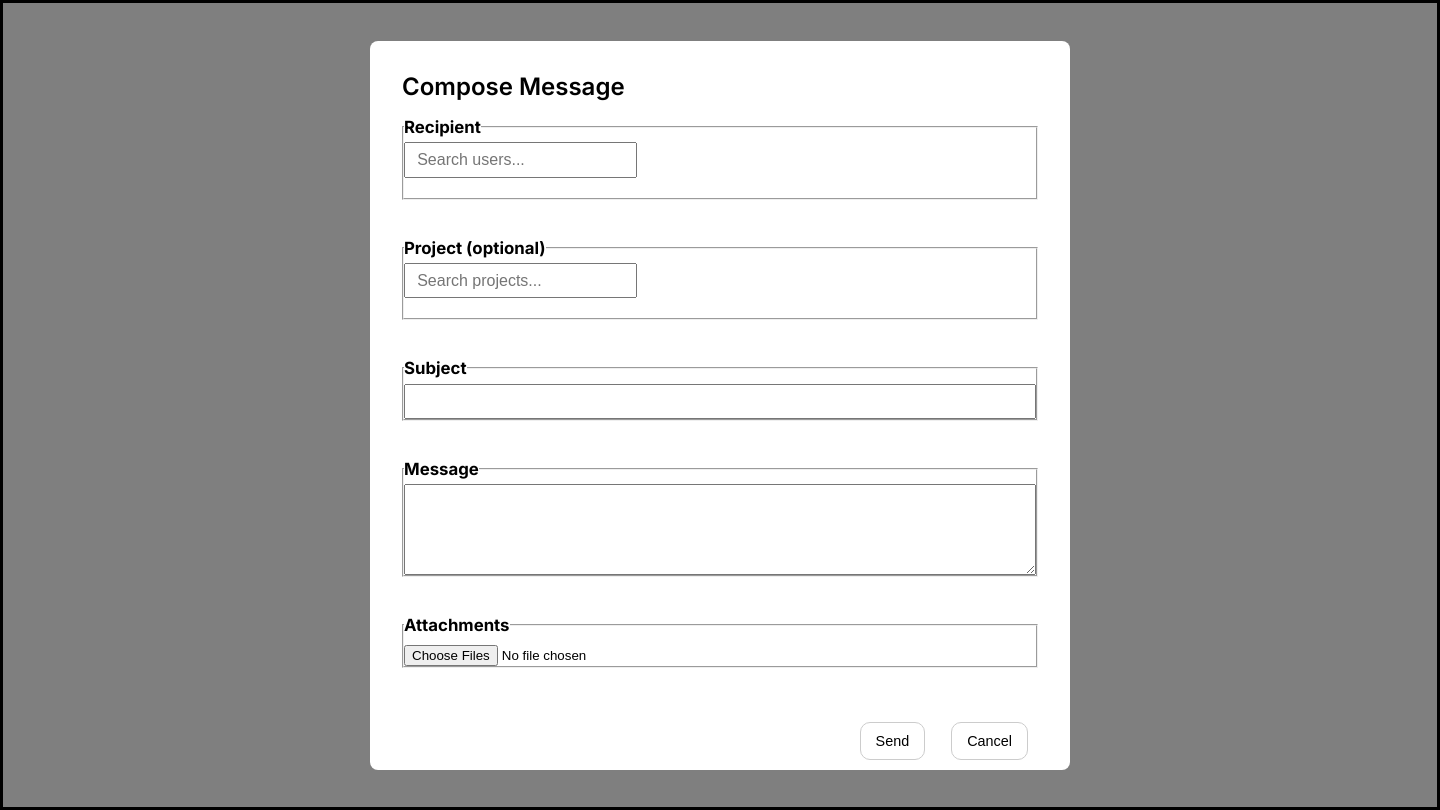
it: ComposeMessage › shows alert if trying to send without selecting a user
# Fill in the form
In the field with placeholder "Search users...": x=521, y=160 [404,142,637,178], type "Al"
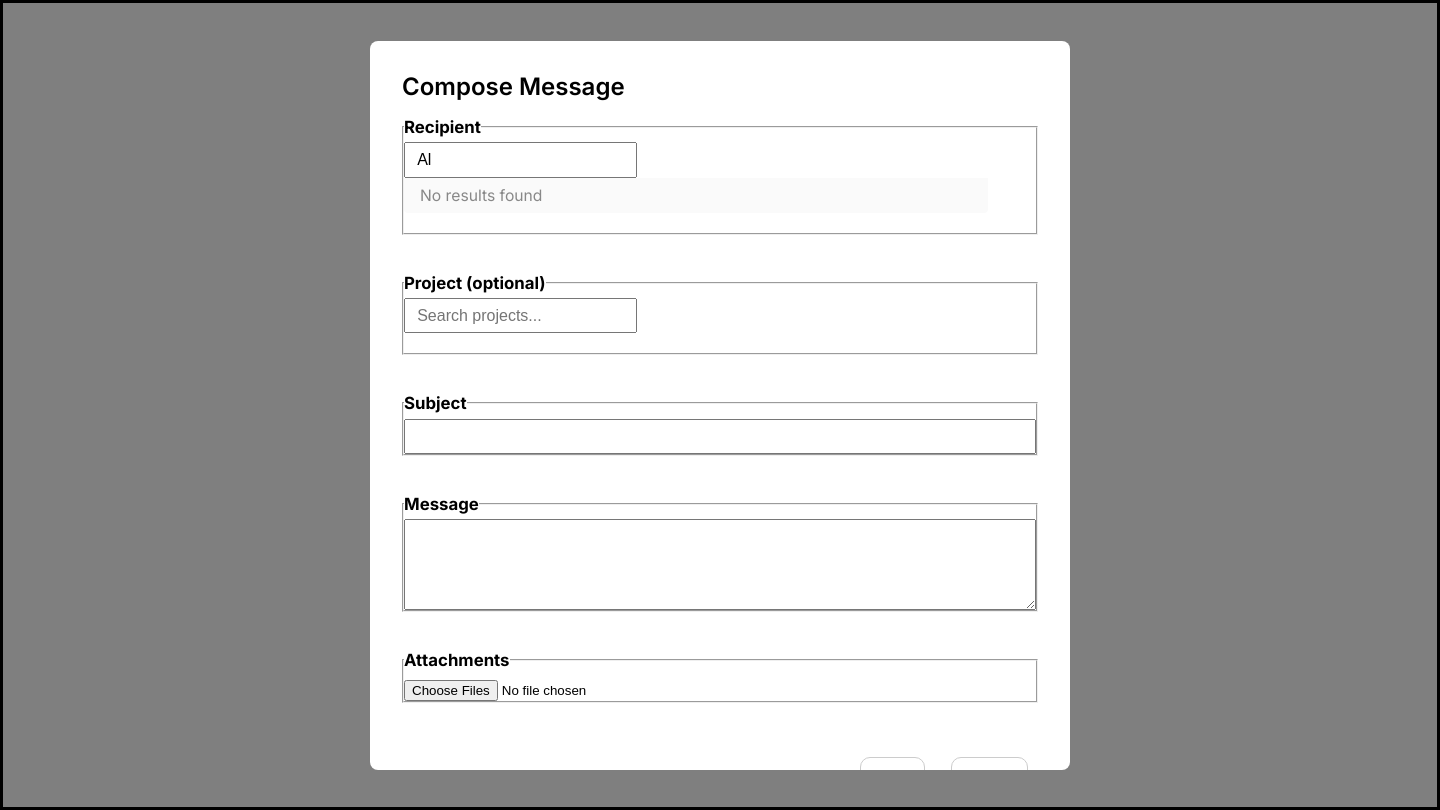
In the field with placeholder "Search projects...": x=521, y=316 [404,298,637,333], type "Proj"
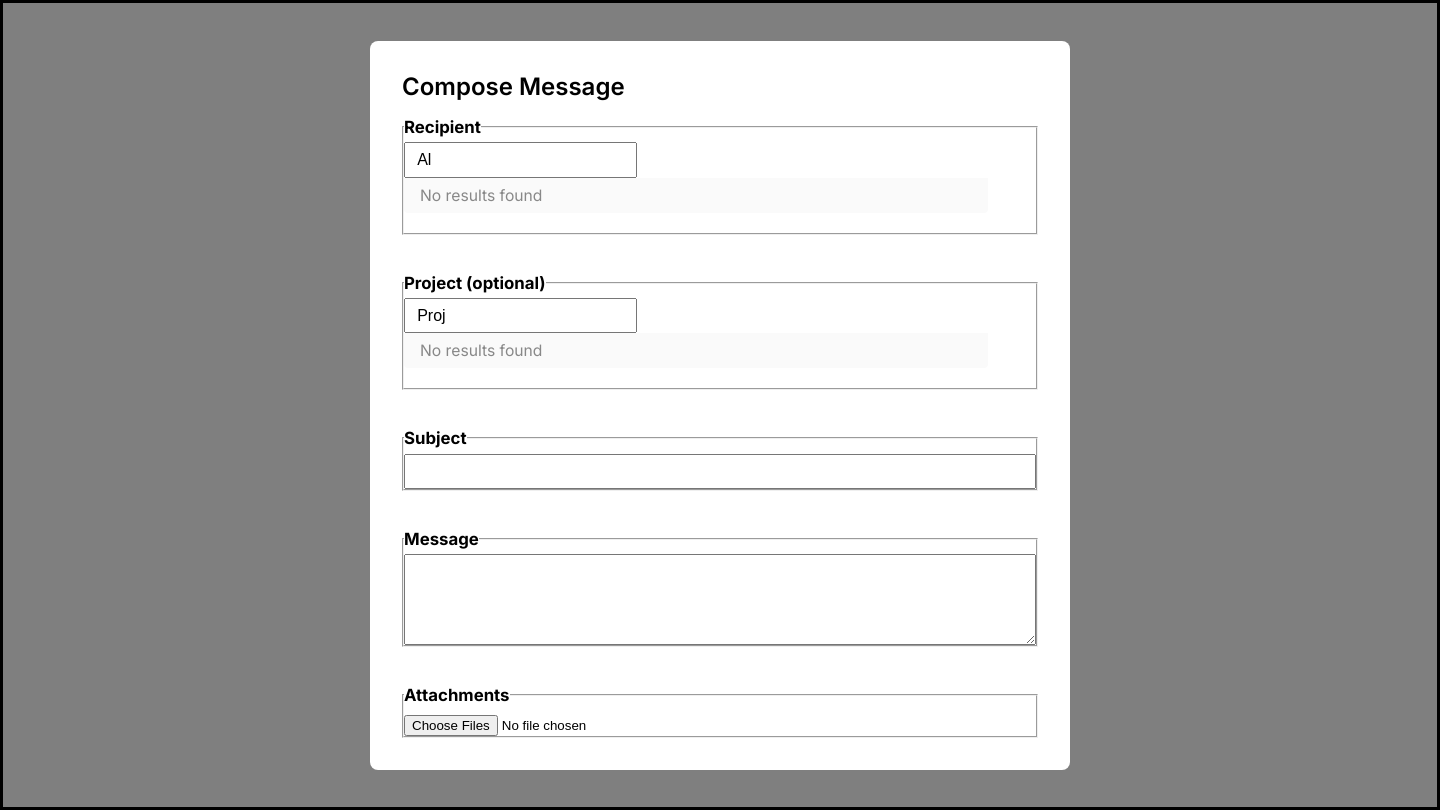
In the field below "Subject": x=720, y=471 [404,454,1036,489], type "Subject"
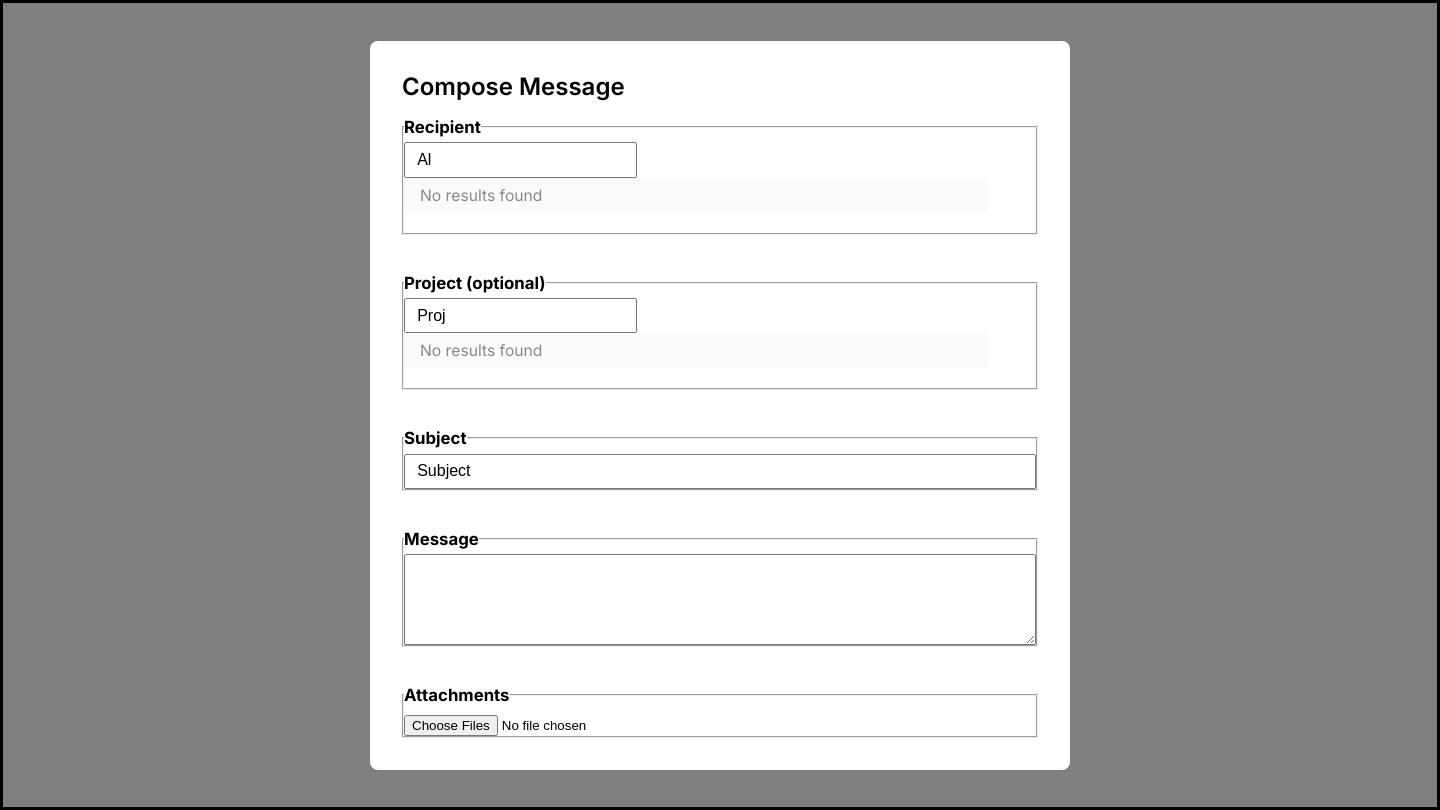
In the text box: x=720, y=600 [404,554,1036,645], type "Body"
(page scrolled)
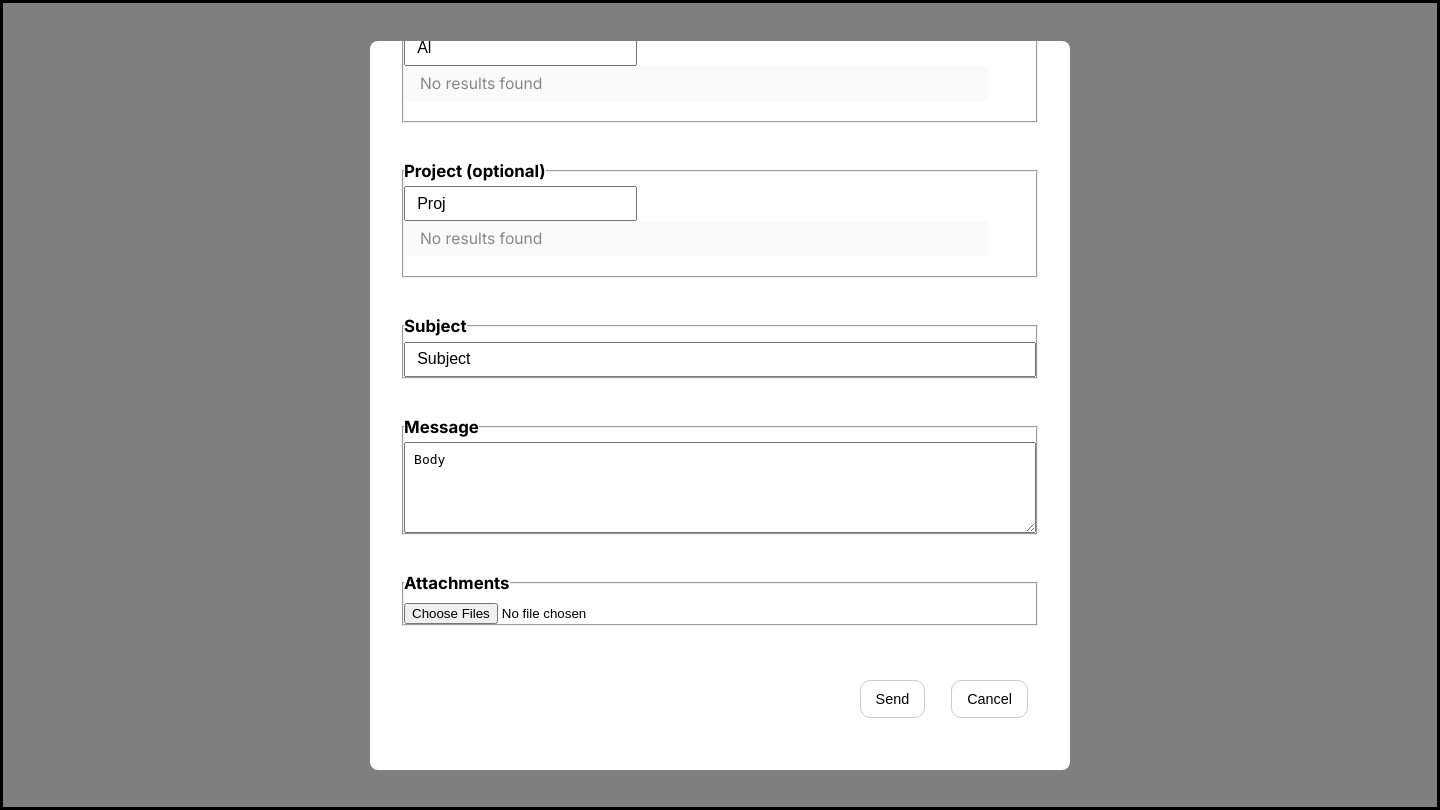
# Try to send without selecting a user
Click the button "Send": x=892, y=699 [860,680,925,718]
(page scrolled)
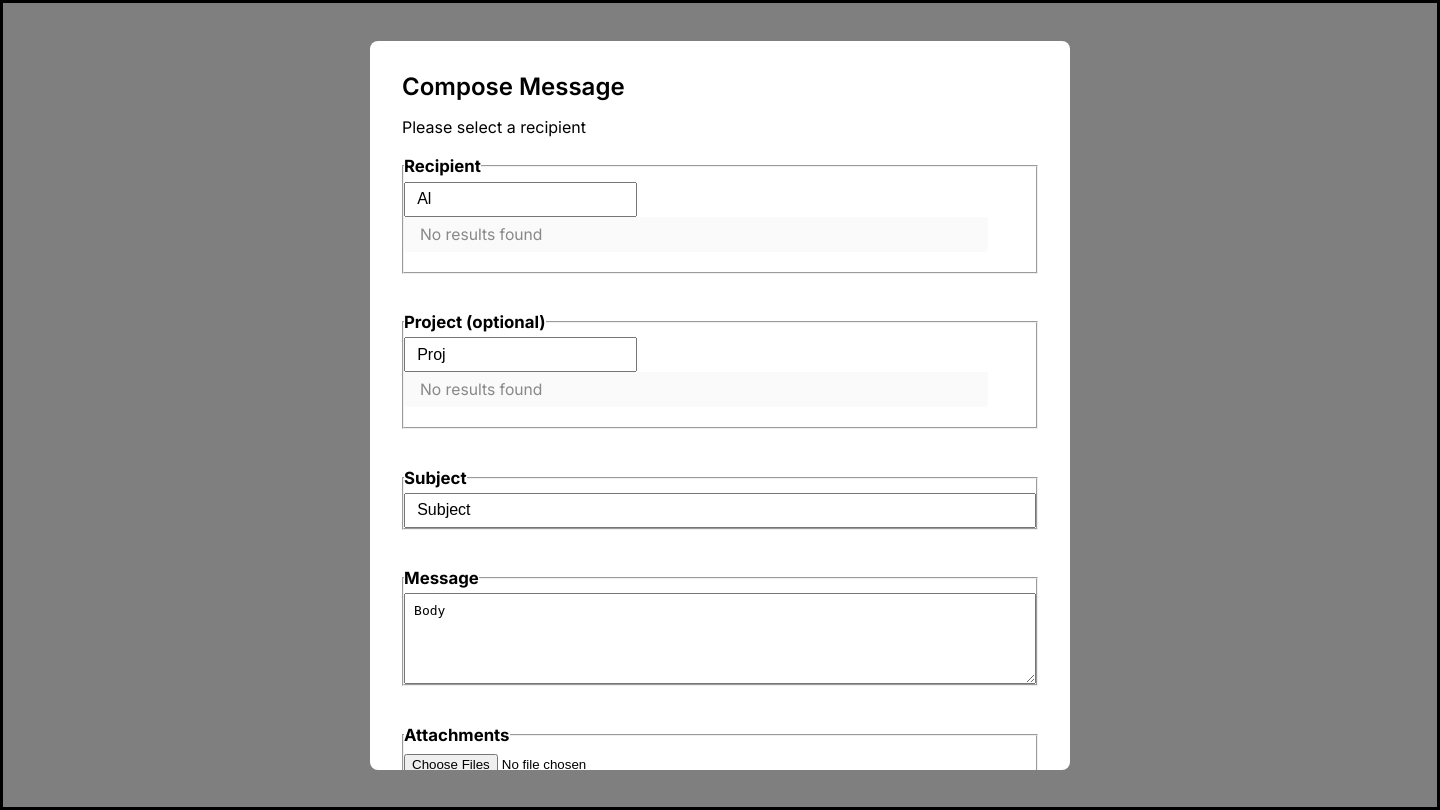
Check: the text "Please select a recipient" is shown, box [402,117,586,137]
